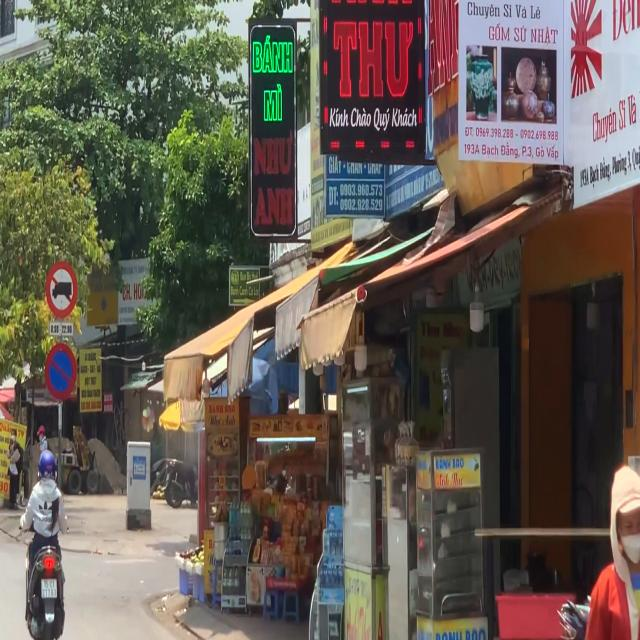Cam con lai: (45, 260, 78, 319)
Cam do: (44, 343, 78, 400)
